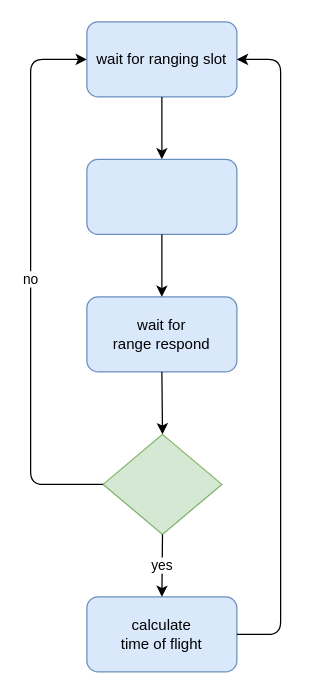
Some shapes in this 313 by 694 pixel diagram are drawn without their labels. The centre of each missing label's shape, as x and y in pixels:
"respond recv" belongs at [162,483].
"send range request" belongs at [161,196].
